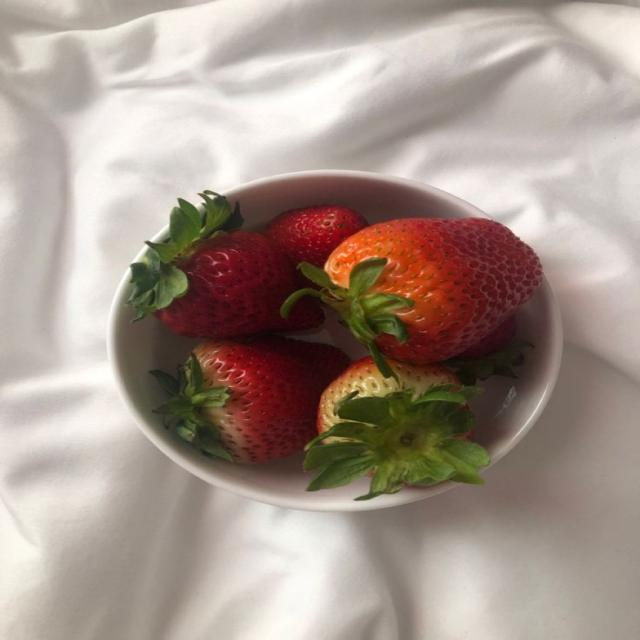strawberry: (283, 218, 541, 374), (128, 192, 323, 337), (305, 357, 489, 499), (152, 336, 349, 463), (266, 205, 367, 267), (443, 315, 533, 384), (459, 315, 516, 358)
